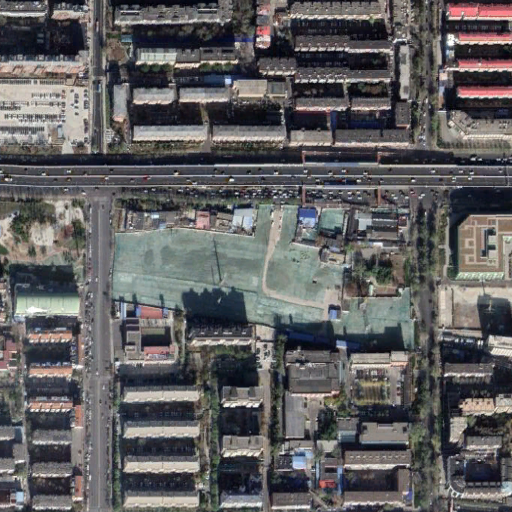cw: (115, 205, 413, 350)
